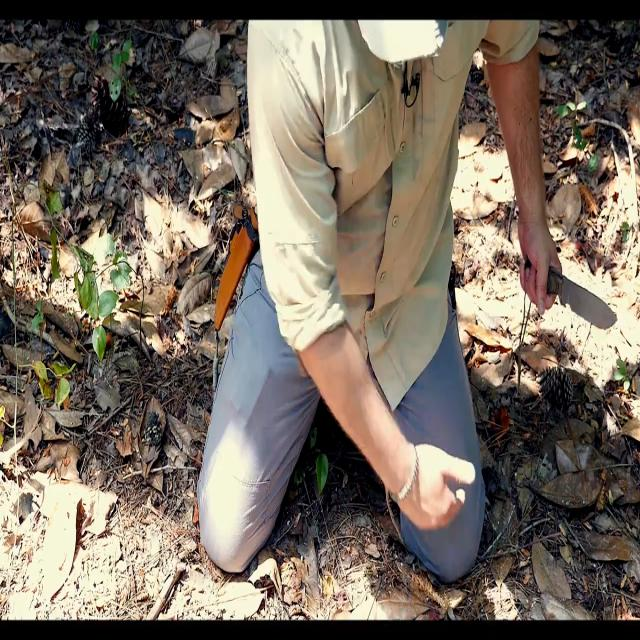knife: (552, 266, 622, 335)
